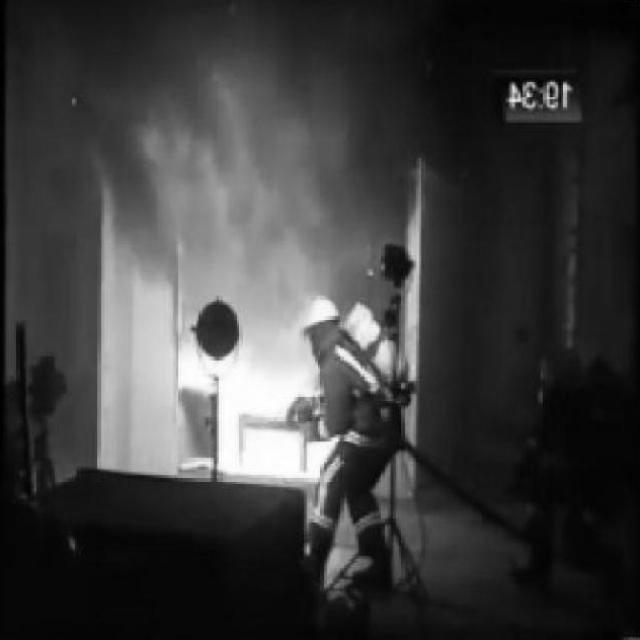smoke: (124, 24, 366, 478)
